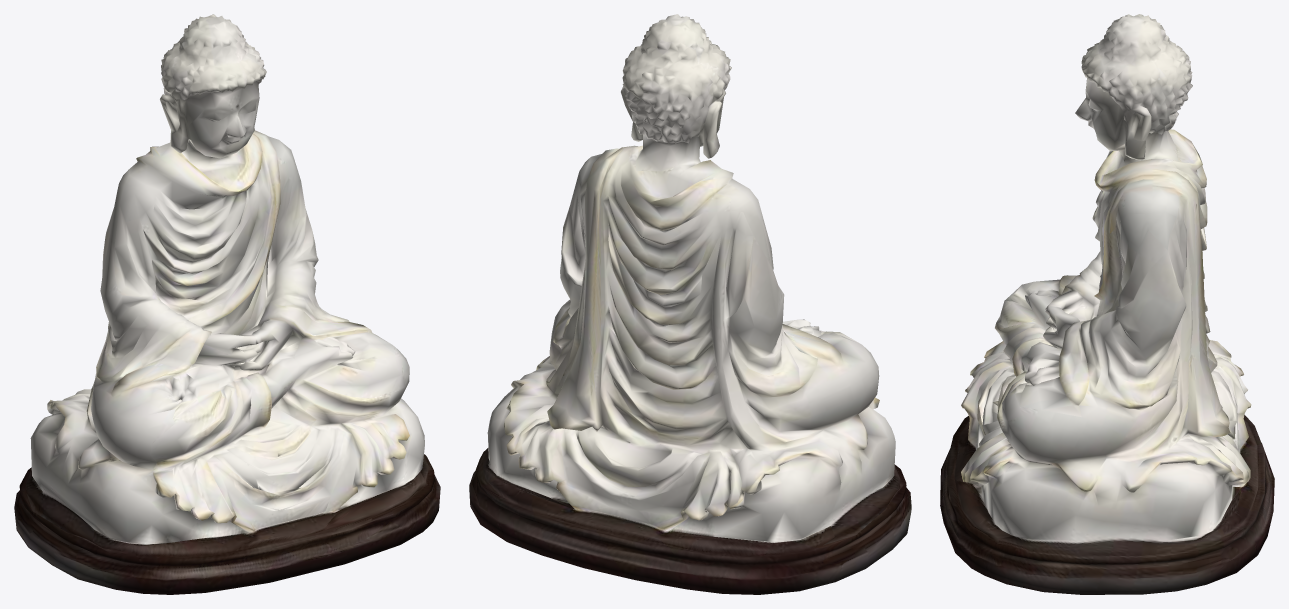
File: far.glb
3 renders of one model, left to right at view 1: azimuth 30°, elevation 25°; view 2: azimuth 150°, elevation 25°; view 3: azimuth 270°, elevation 25°, orthographic. The views are drawn at different scales.
Visible parts, largest first — view 1: four-heavenly-kings-06; view 2: four-heavenly-kings-06; view 3: four-heavenly-kings-06.
Part boxes in pixels (left/top/right/bottom): four-heavenly-kings-06: left=14, top=14, right=440, bottom=594; four-heavenly-kings-06: left=469, top=14, right=911, bottom=594; four-heavenly-kings-06: left=940, top=14, right=1274, bottom=594.
Bounding box in the file's own units: 0.7979 × 1 × 0.6226.
Materials: 1 (1 with a texture image).
